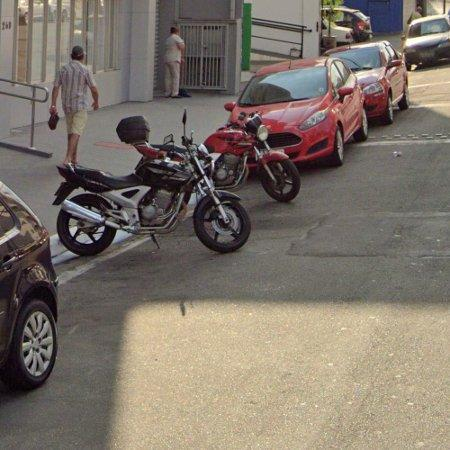motorcycles: (53, 110, 252, 256), (204, 113, 301, 202), (117, 116, 150, 144)
